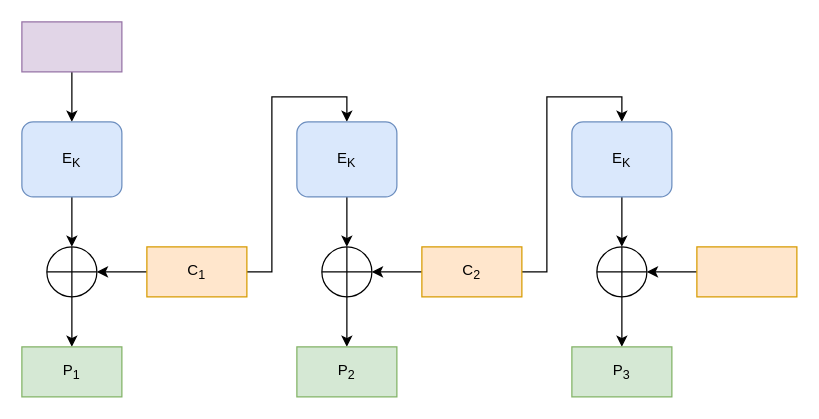
Image size: 819x419. Some labels were removed from this diagram. The box of each missing label's shape, as (x1, y1, x2, y2) in pixels:
C 3: (696, 246, 797, 297)
IV: (21, 21, 122, 72)
